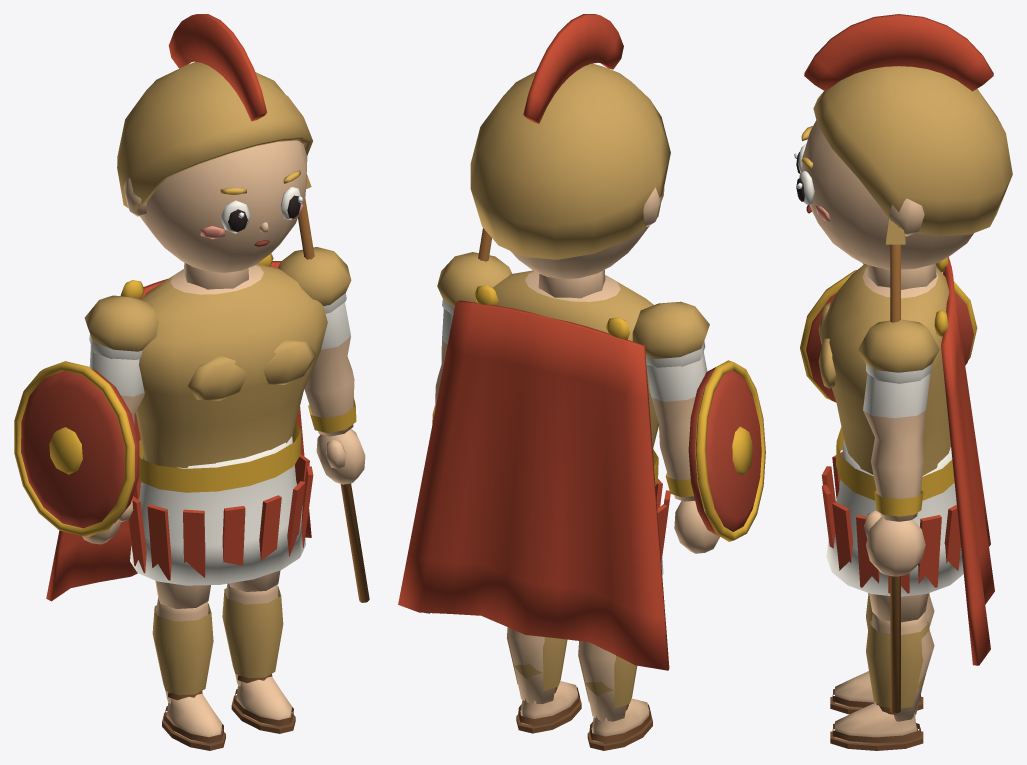
Rendered from achilles.glb.
3 views of the same model, side by side, from view 1: azimuth 30°, elevation 25°; view 2: azimuth 150°, elevation 25°; view 3: azimuth 270°, elevation 25° (orthographic). The views are drawn at different scales.
Parts seen in each view (by area): view 1: rumpf, kopfschmuck, huefte, itemL, kopf, armR, knieR, knieL, armL, umhang, itemR, beinL (+2 smaller); view 2: umhang, kopfschmuck, itemL, armL, rumpf, knieL, knieR, kopf, armR, huefte; view 3: kopfschmuck, armR, rumpf, kopf, huefte, umhang, knieR, itemL, itemR, knieL, beinR, augeR.
Boxes of the visible parts, box(x1,y1,x2,y2) form: rumpf: box(135, 264, 327, 492); kopfschmuck: box(117, 14, 312, 212); huefte: box(128, 436, 313, 585); itemL: box(14, 361, 139, 537); kopf: box(123, 140, 307, 289); armR: box(278, 247, 365, 484); knieR: box(222, 583, 295, 733); knieL: box(152, 597, 225, 750); armL: box(82, 295, 158, 544); umhang: box(46, 253, 311, 601); itemR: box(298, 174, 369, 602); beinL: box(155, 580, 210, 608); umhang: box(398, 285, 669, 670); kopfschmuck: box(470, 14, 670, 259); itemL: box(688, 360, 765, 541); armL: box(632, 301, 719, 553); rumpf: box(493, 270, 658, 485); knieL: box(578, 641, 652, 750); knieR: box(507, 627, 581, 733); kopf: box(510, 187, 664, 298); armR: box(432, 252, 512, 423); huefte: box(655, 479, 670, 574); kopfschmuck: box(804, 14, 1012, 236); armR: box(858, 319, 939, 576); rumpf: box(818, 264, 954, 500); kopf: box(802, 120, 973, 289); huefte: box(821, 440, 963, 596); umhang: box(934, 257, 994, 665); knieR: box(830, 612, 934, 750); itemL: box(800, 270, 977, 402); itemR: box(885, 218, 905, 712); knieL: box(830, 593, 934, 714); beinR: box(869, 593, 928, 622); augeR: box(796, 171, 814, 204).
Bounding box in the file's own units: 1.19 × 2.48 × 0.6939.
